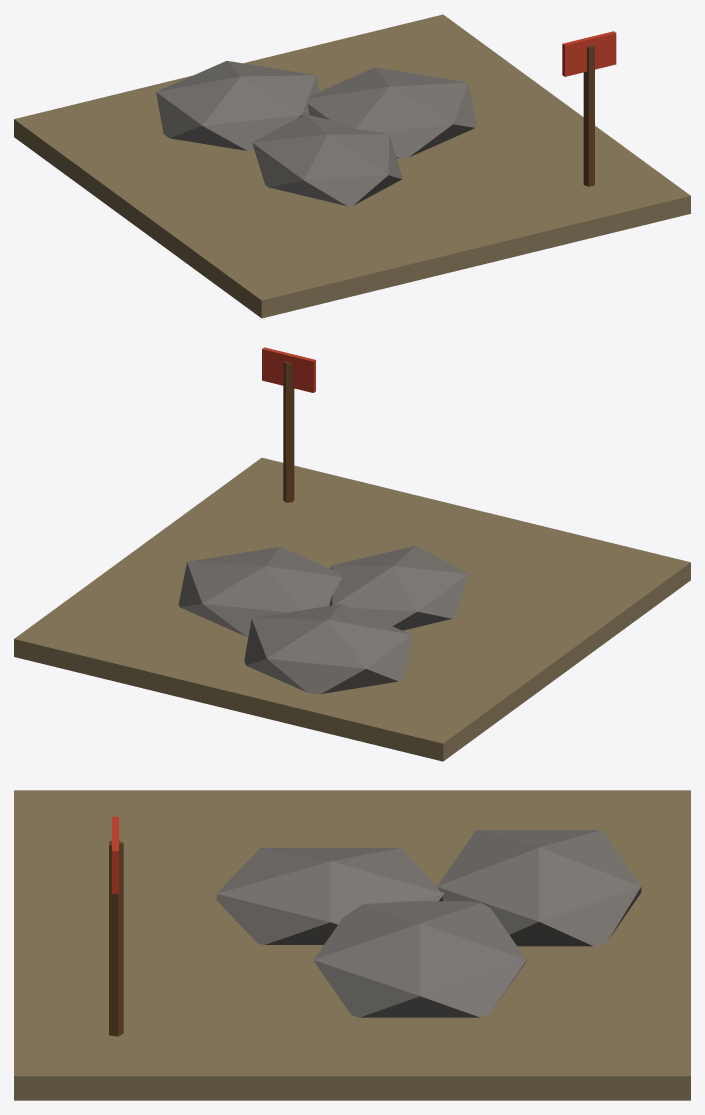
Rendered from Deposit_Coal_Depleted.fbx.
3 views of the same model, one above another, from view 1: azimuth 30°, elevation 25°; view 2: azimuth 150°, elevation 25°; view 3: azimuth 270°, elevation 25° (orthographic). The views are drawn at different scales.
Parts seen in each view (by area): view 1: Deposit_Coal_Depleted_Body; view 2: Deposit_Coal_Depleted_Body; view 3: Deposit_Coal_Depleted_Body.
Part boxes in pixels (x1,y1,x2,y2): Deposit_Coal_Depleted_Body: (14,14,690,318); Deposit_Coal_Depleted_Body: (14,347,690,761); Deposit_Coal_Depleted_Body: (14,790,690,1100).
Size of the model in its own units: 1 by 0.3715 by 1.
